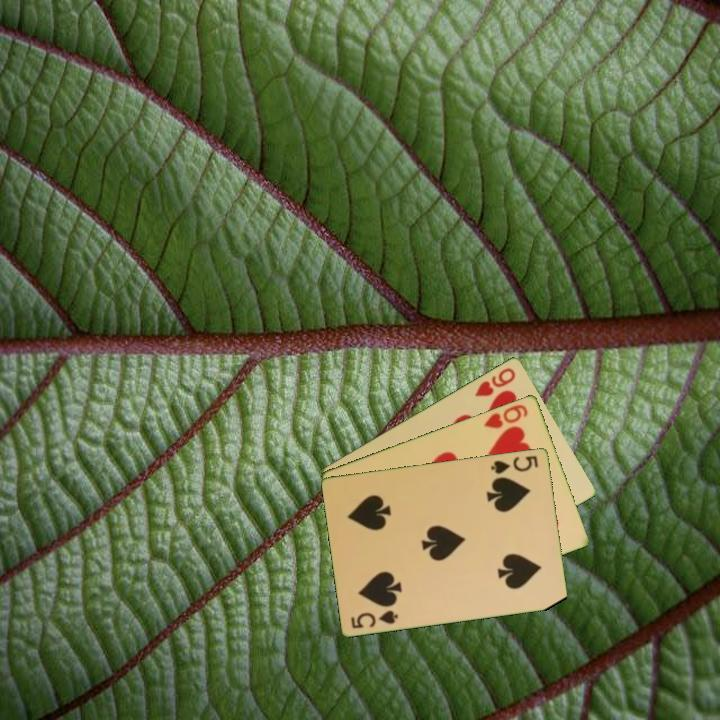5s: (347, 606, 401, 631), (487, 452, 541, 476)
6h: (480, 400, 531, 431)
9h: (471, 364, 519, 399)
